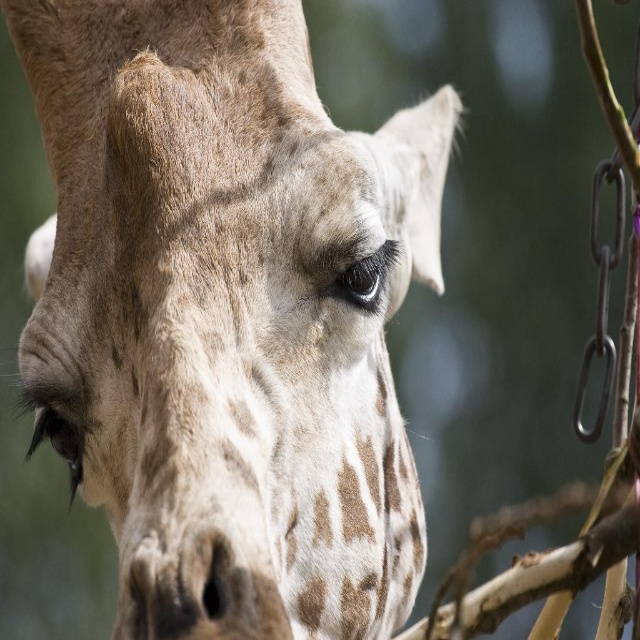Giraffe: (10, 1, 486, 640)
